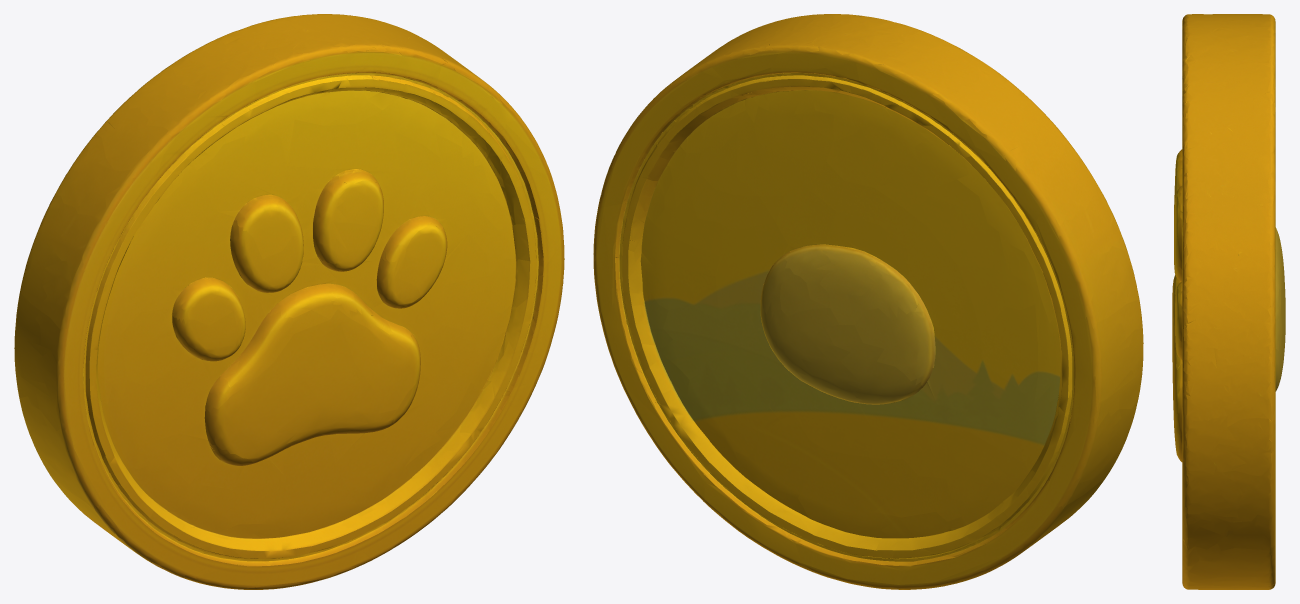
Rendered from school-foxcoin-textured.glb.
The picture shows the model from 3 angles, left to right: view 1: azimuth 30°, elevation 25°; view 2: azimuth 150°, elevation 25°; view 3: azimuth 270°, elevation 25°; orthographic projection.
Bounding box in the file's own units: 1.9 × 1.9 × 0.3751.
Materials: 1 (1 with a texture image).
